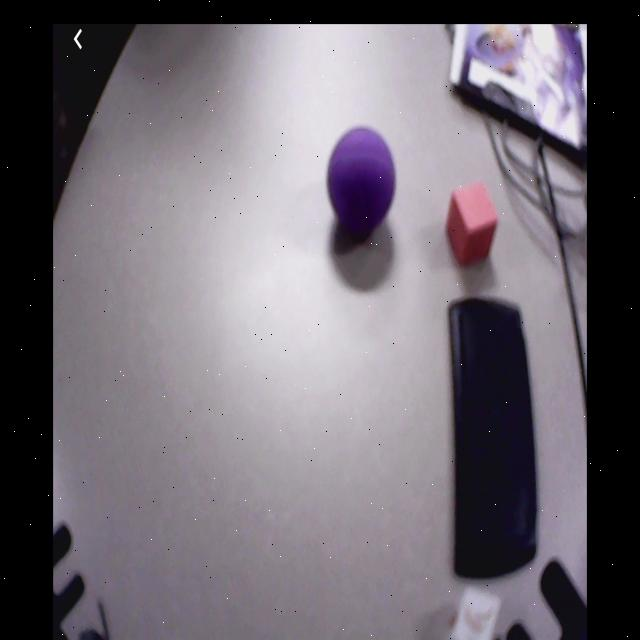ball: (328, 129, 395, 225)
